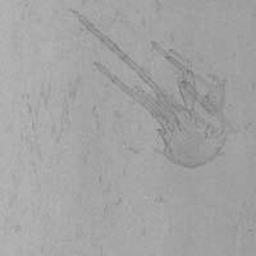Water spot: (69, 8, 242, 170)
